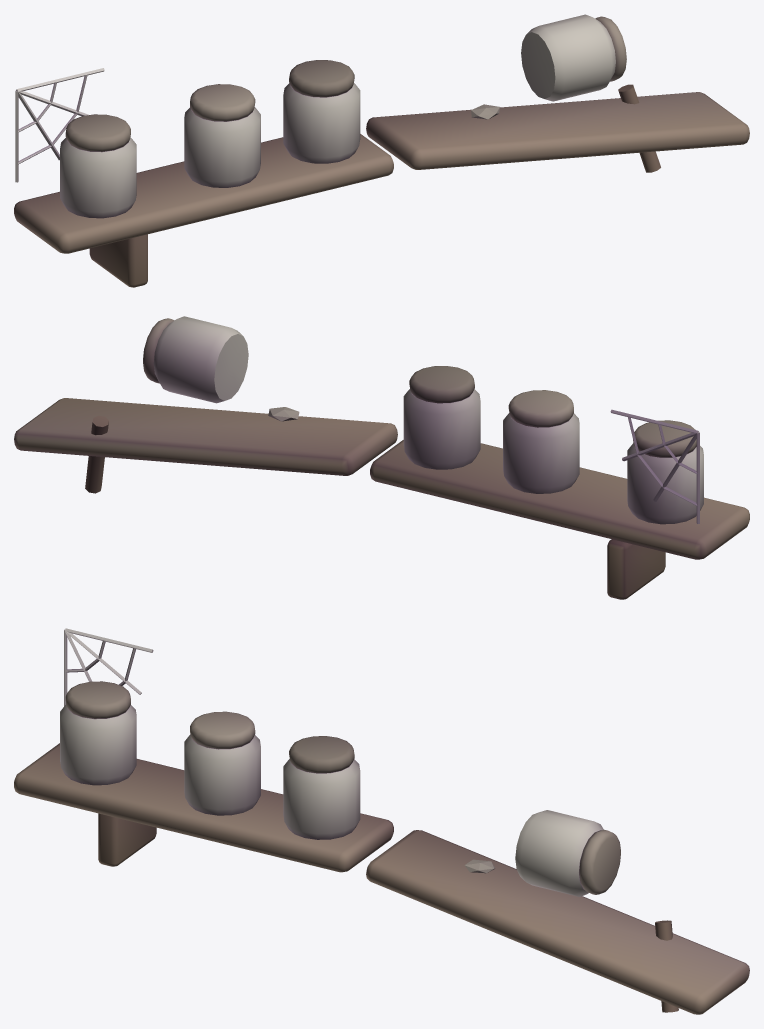
File: shelf_broken.glb
3 renders of one model, top to bottom at view 1: azimuth 30°, elevation 25°; view 2: azimuth 150°, elevation 25°; view 3: azimuth 330°, elevation 25°, orthographic.
Parts seen in each view (by area): view 1: shelf_broken; view 2: shelf_broken; view 3: shelf_broken.
Boxes of the visible parts, <box> form: shelf_broken: <box>14,14,749,287</box>; shelf_broken: <box>14,316,749,599</box>; shelf_broken: <box>14,628,749,1014</box>.
Size of the model in its own units: 2.23 by 0.685 by 0.288.
